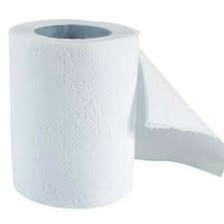tissue: (1, 10, 224, 214)
